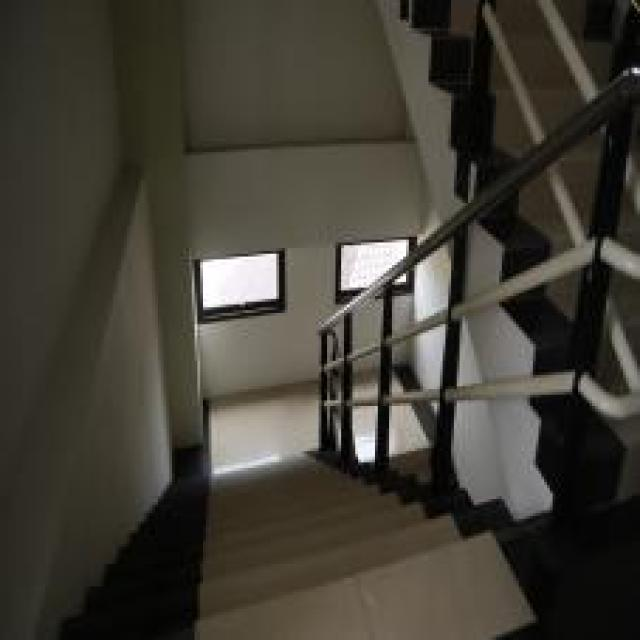downstair: (175, 491, 400, 637)
